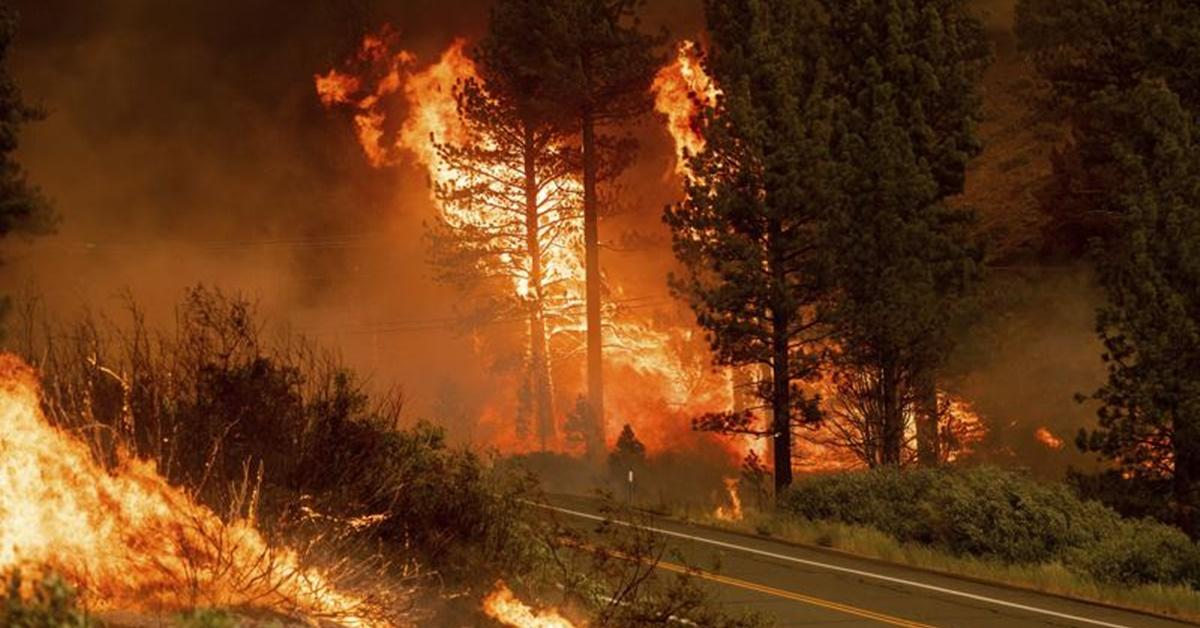fire: (598, 0, 1031, 520), (304, 15, 733, 499), (0, 399, 625, 628)
